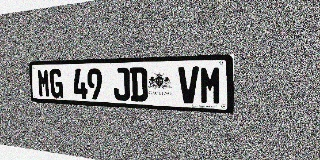4: (73, 68, 88, 99)
9: (87, 68, 103, 100)
D: (130, 67, 148, 102)
G: (49, 69, 64, 98)
J: (113, 67, 130, 101)
M: (200, 66, 222, 105), (37, 69, 51, 97)
V: (178, 66, 199, 104)
